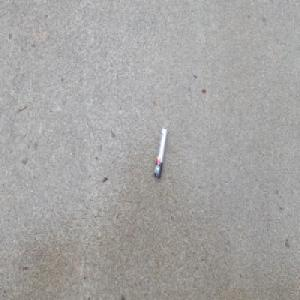Battery: (153, 126, 167, 179)
